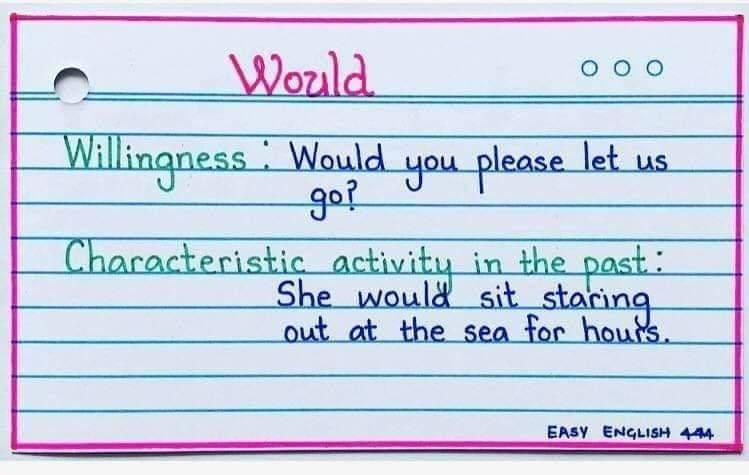text: (61, 131, 669, 194), (64, 238, 666, 297), (275, 277, 654, 329), (283, 312, 671, 349), (226, 45, 376, 99), (545, 421, 716, 443), (307, 176, 360, 226)
